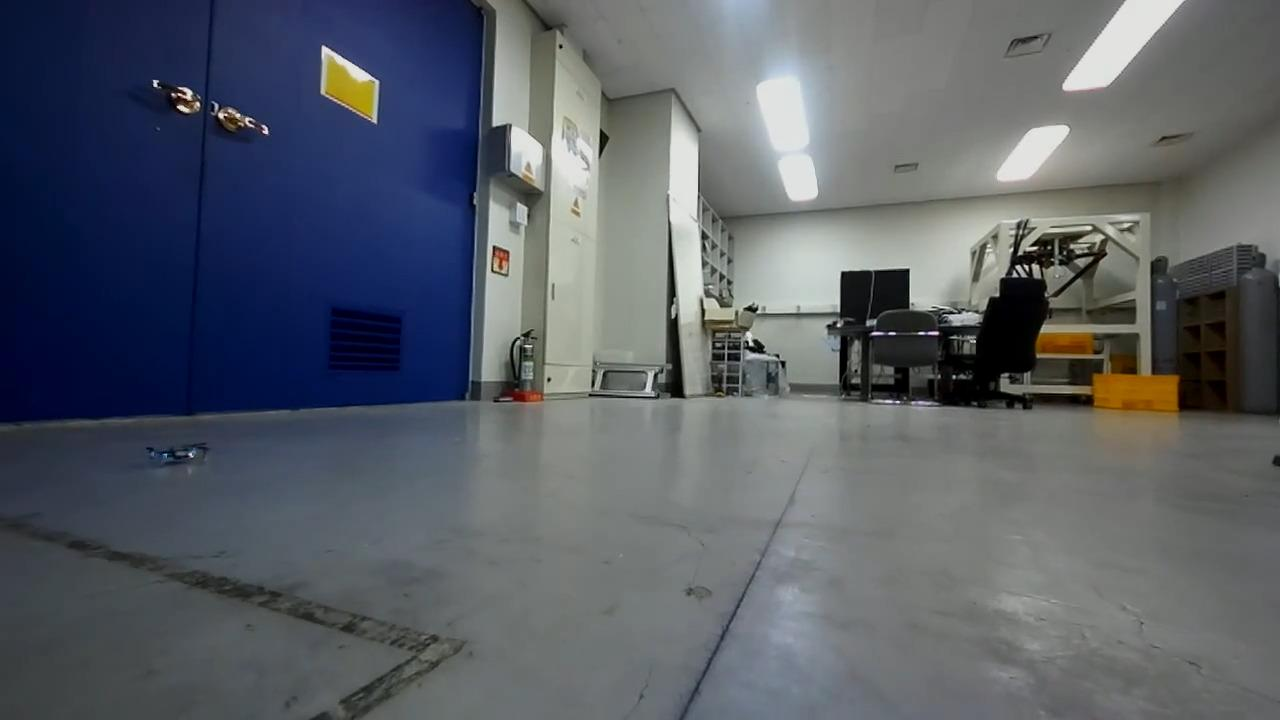crazyflie: (144, 437, 212, 471)
